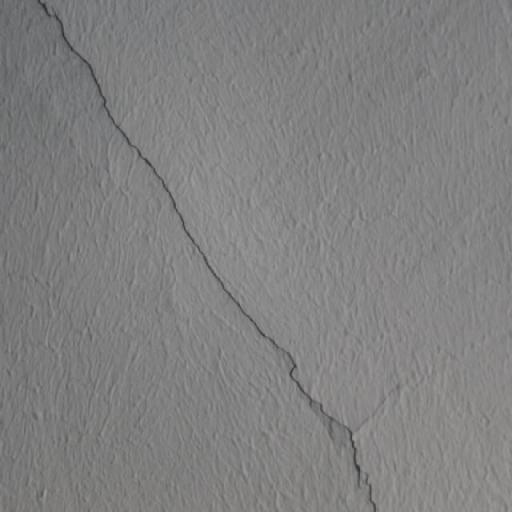severe crack: (34, 0, 396, 512)
